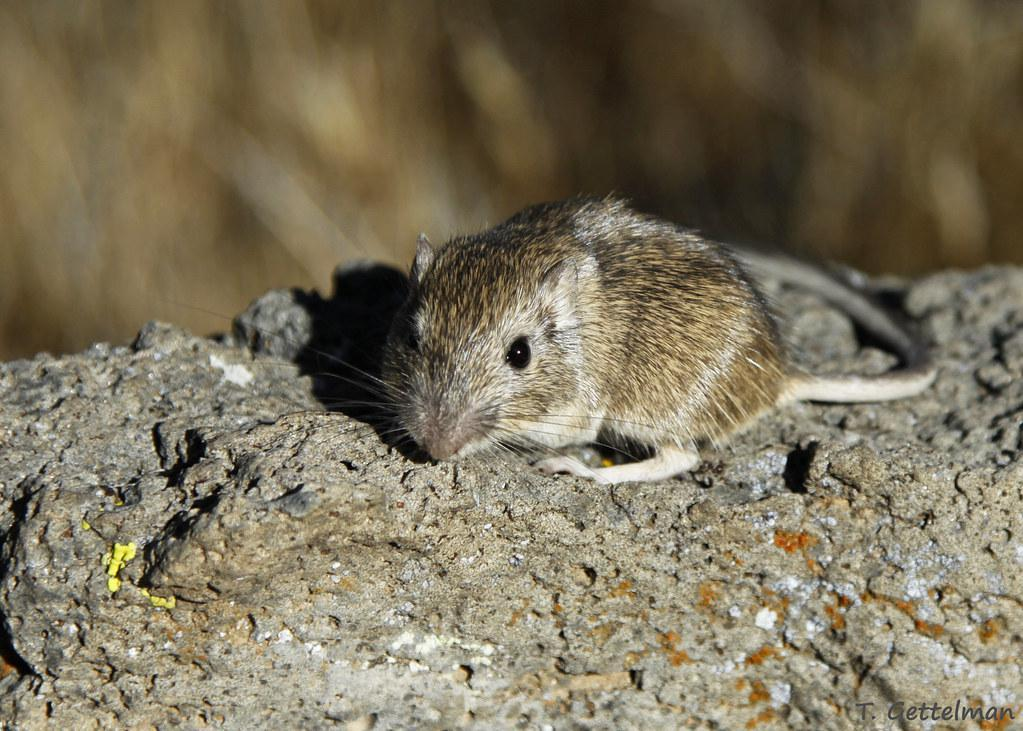rat: (386, 199, 938, 486)
